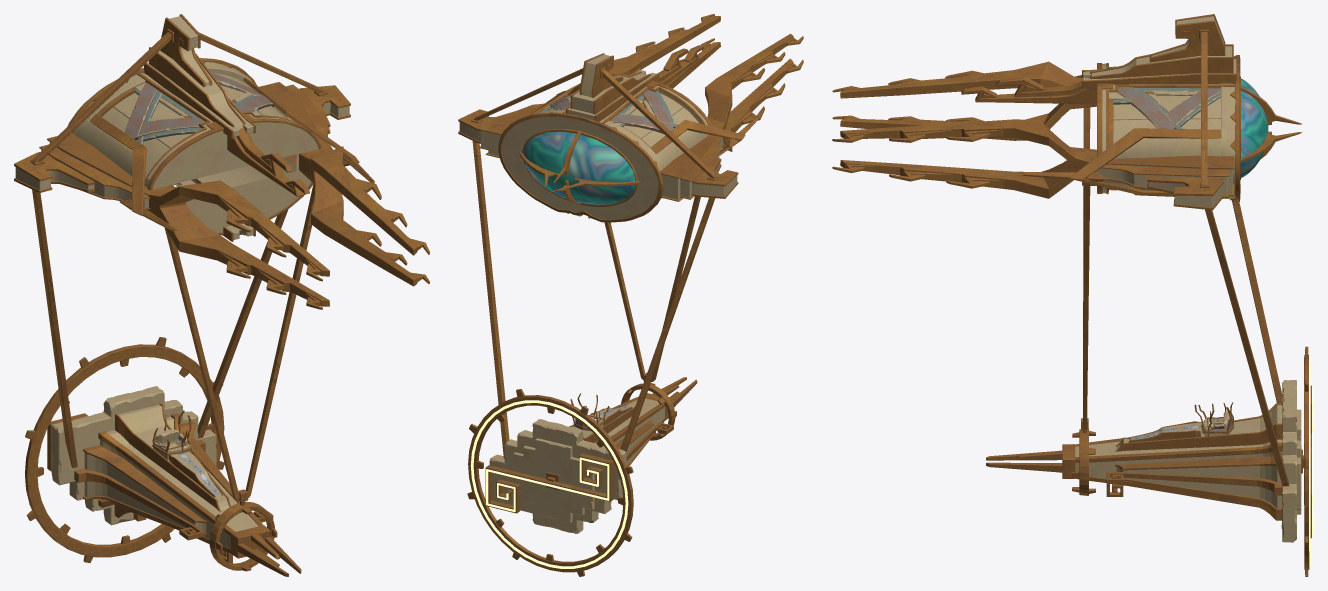
File: Proxy_SS.glb
3 views of the same model, side by side, from view 1: azimuth 30°, elevation 25°; view 2: azimuth 150°, elevation 25°; view 3: azimuth 270°, elevation 25° (orthographic). The views are drawn at different scales.
Visible parts, largest first — view 1: Structure_NOM_SS_Proxy; view 2: Structure_NOM_SS_Proxy; view 3: Structure_NOM_SS_Proxy.
Part boxes in pixels (box(x1,y1,x2,y2)): Structure_NOM_SS_Proxy: box(14, 14, 429, 576); Structure_NOM_SS_Proxy: box(458, 14, 803, 576); Structure_NOM_SS_Proxy: box(832, 14, 1313, 576).
Size of the model in its own units: 178 by 303 by 244.
Materials: 1 (1 with a texture image).
